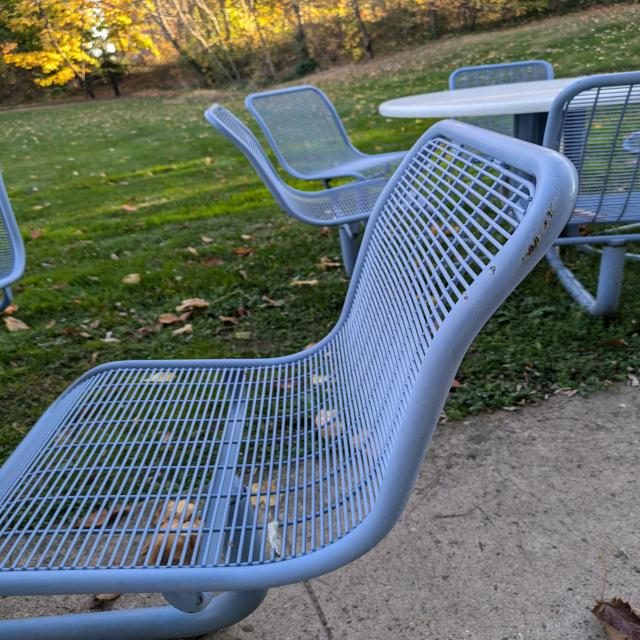Filiform Corrosion: (522, 201, 557, 265)
